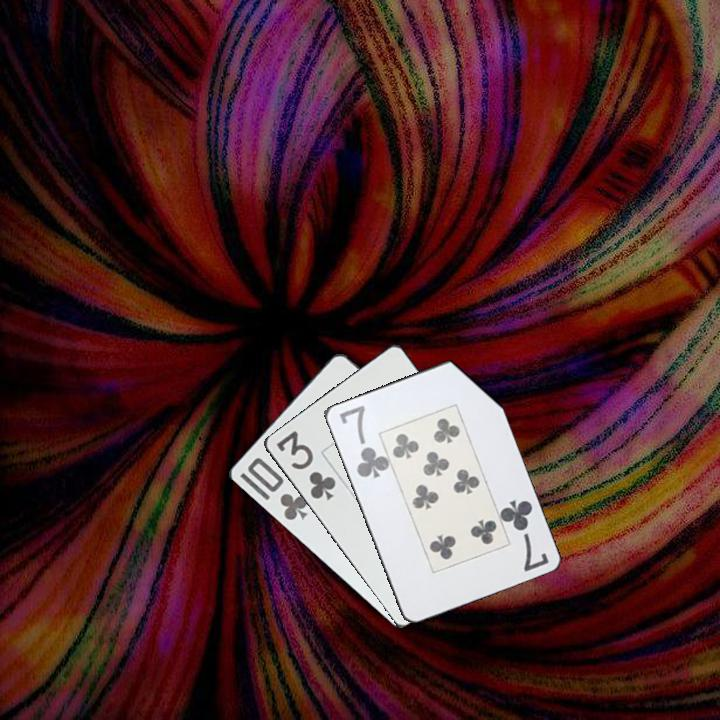3c: (272, 427, 339, 503)
7c: (497, 496, 552, 575), (335, 402, 389, 481)
Tc: (243, 454, 311, 523)
